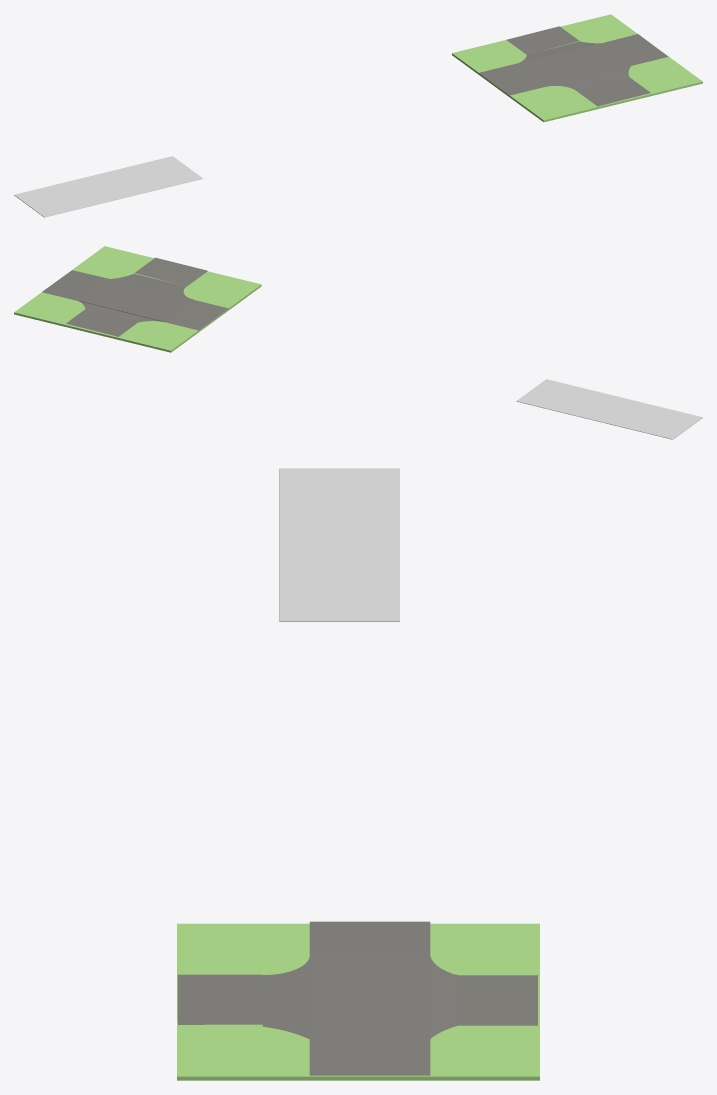
Rendered from Jalan persimpangan.fbx.
3 renders of one model, top to bottom at view 1: azimuth 30°, elevation 25°; view 2: azimuth 150°, elevation 25°; view 3: azimuth 270°, elevation 25°, orthographic. The views are drawn at different scales.
Visible parts, largest first — view 1: Plane.002, Cube, Plane; view 2: Plane.002, Cube, Plane; view 3: Plane.002, Cube, Plane.
Part boxes in pixels (x1=…): Plane.002: x1=479, y1=26, x2=668, y2=106; Cube: x1=452, y1=14, x2=702, y2=122; Plane: x1=14, y1=156, x2=203, y2=217; Plane.002: x1=42, y1=257, x2=228, y2=336; Cube: x1=14, y1=246, x2=261, y2=352; Plane: x1=516, y1=379, x2=702, y2=439; Plane.002: x1=177, y1=921, x2=537, y2=1075; Cube: x1=177, y1=923, x2=539, y2=1080; Plane: x1=279, y1=468, x2=399, y2=621.
Size of the model in its own units: 11956 by 55.73 by 3010.
